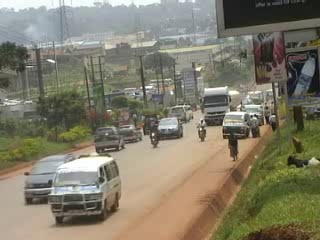Car: (21, 151, 78, 204), (92, 125, 124, 154), (155, 114, 186, 140), (115, 122, 144, 142), (139, 112, 162, 133)
Motorcycle: (146, 123, 162, 149), (194, 117, 208, 142)
